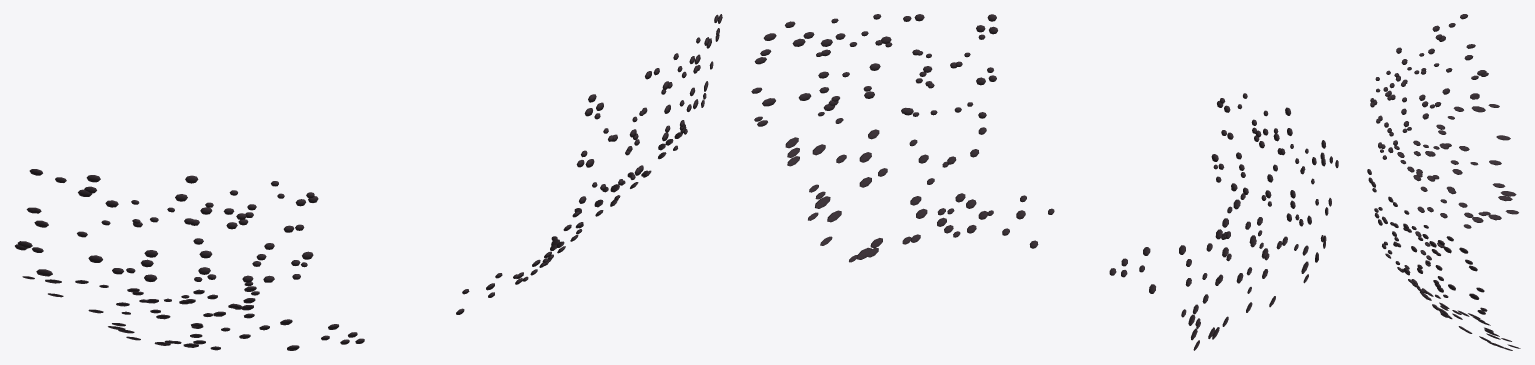
The model's file is facial_stubble_default.gltf.
3 renders of one model, left to right at view 1: azimuth 30°, elevation 25°; view 2: azimuth 150°, elevation 25°; view 3: azimuth 270°, elevation 25°, orthographic. The views are drawn at different scales.
Visible parts, largest first — view 1: Fine Stubble default; view 2: Fine Stubble default; view 3: Fine Stubble default.
Boxes of the visible parts, x1,y1,x2,y2 form: Fine Stubble default: (15, 14, 722, 350); Fine Stubble default: (751, 14, 1338, 350); Fine Stubble default: (1367, 14, 1520, 350).
Bounding box in the file's own units: 0.349 × 0.1148 × 0.0989.
1 material, 1 textured.
